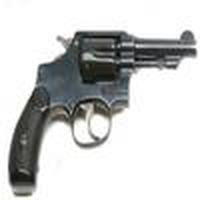gun: (4, 32, 200, 188)
